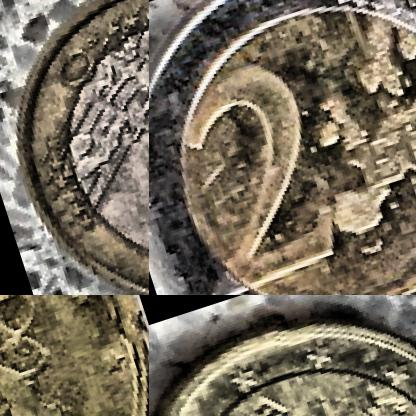coin: (149, 0, 415, 294), (0, 0, 148, 294), (149, 295, 415, 415), (0, 295, 148, 415)
